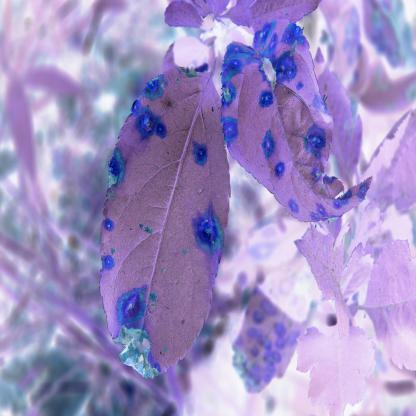Apple rust leaf: (97, 45, 233, 385), (219, 33, 379, 233)
